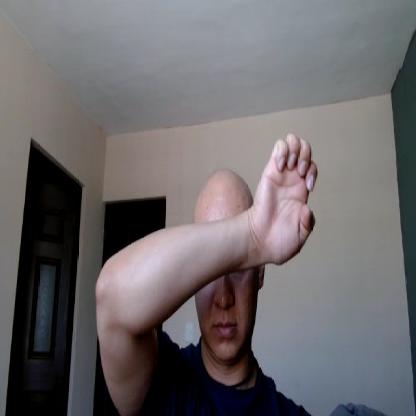E: (253, 132, 320, 266)
